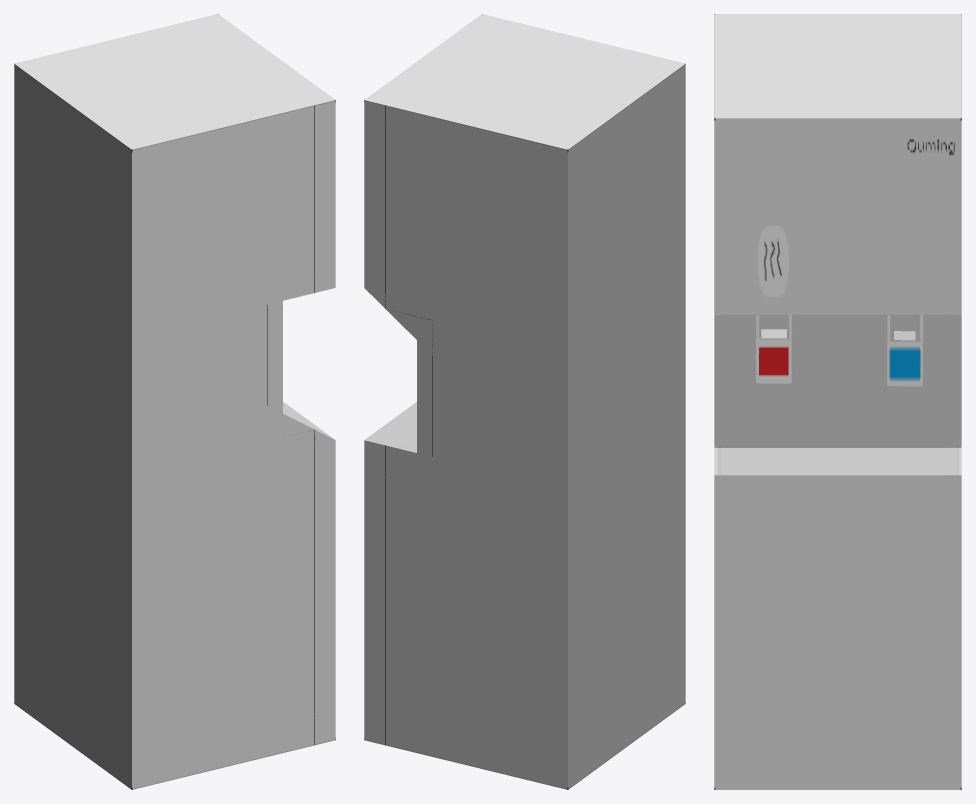
The model's file is Purifier.fbx.
The picture shows the model from 3 angles, left to right: view 1: azimuth 30°, elevation 25°; view 2: azimuth 150°, elevation 25°; view 3: azimuth 270°, elevation 25°; orthographic projection. The views are drawn at different scales.
Visible parts, largest first — view 1: Cube; view 2: Cube; view 3: Cube.
Boxes of the visible parts, x1=… form: Cube: x1=14, y1=14, x2=335, y2=789; Cube: x1=364, y1=14, x2=685, y2=789; Cube: x1=714, y1=14, x2=961, y2=789.
Bounding box in the file's own units: 200 × 600 × 200.
